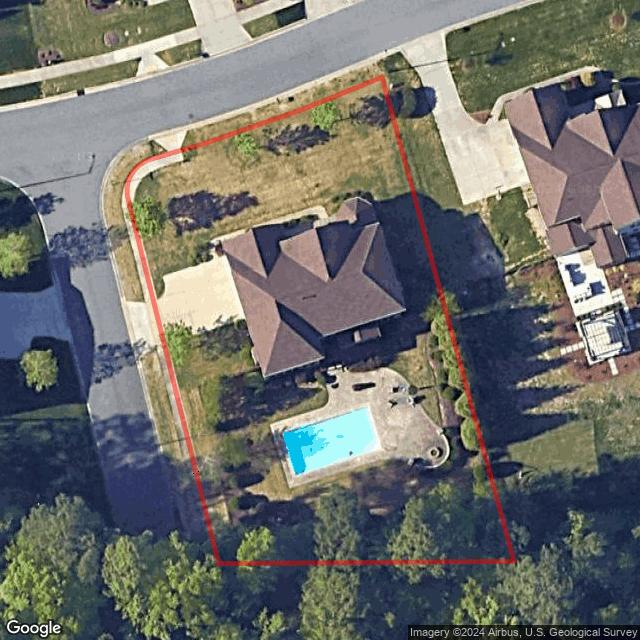Driveway: (154, 256, 245, 345)
Extra-Driveway: (125, 302, 166, 359)
Extra-Lawn: (182, 62, 383, 150), (140, 349, 213, 568), (103, 140, 167, 302)
Extra-Sidewalk: (121, 130, 186, 304), (157, 345, 192, 459)
House: (222, 196, 408, 378)
Lawn: (126, 77, 513, 563)
Other: (268, 363, 449, 491), (212, 503, 513, 563), (322, 309, 428, 367)
Sidewalk: (126, 150, 183, 303), (208, 205, 328, 260), (163, 345, 196, 458)
